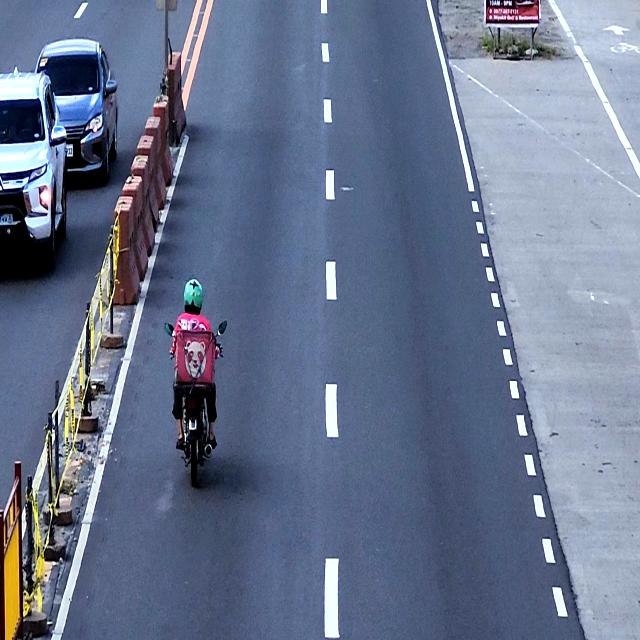Car: (0, 66, 68, 266), (34, 37, 119, 182)
License-Plate: (0, 210, 13, 226), (64, 144, 74, 157)
Motorcycle: (164, 319, 227, 487)
